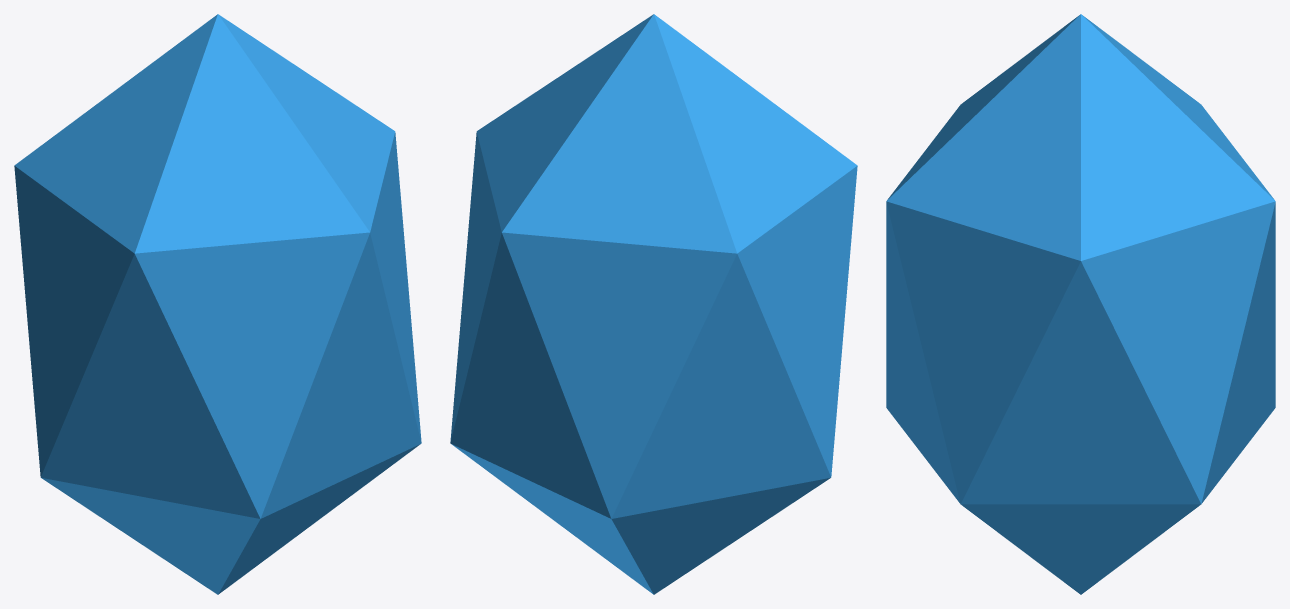
The model's file is find_oldpick.fbx.
The picture shows the model from 3 angles, left to right: view 1: azimuth 30°, elevation 25°; view 2: azimuth 150°, elevation 25°; view 3: azimuth 270°, elevation 25°; orthographic projection.
Parts seen in each view (by area): view 1: find_oldpick; view 2: find_oldpick; view 3: find_oldpick.
Boxes of the visible parts, <box> form: find_oldpick: <box>14,14,421,594</box>; find_oldpick: <box>450,14,857,594</box>; find_oldpick: <box>886,14,1275,594</box>.
Bounding box in the file's own units: 1.79 × 2.8 × 1.7.
